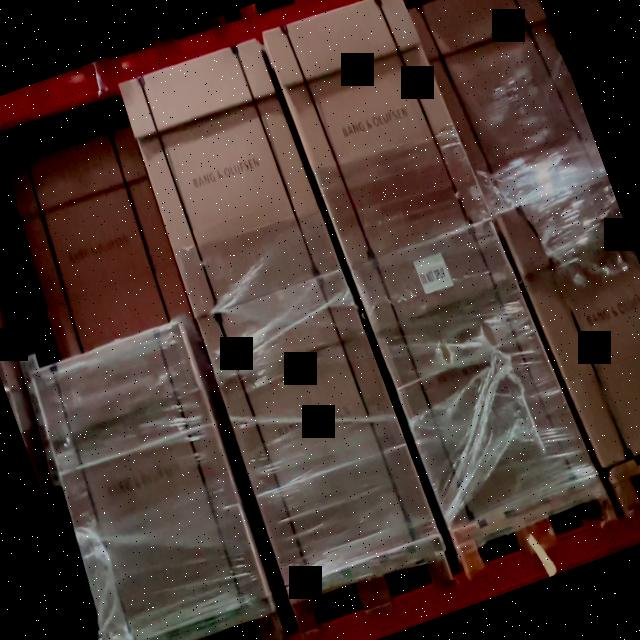box: (30, 327, 271, 640), (196, 271, 435, 584), (352, 218, 586, 531), (122, 36, 338, 311), (265, 0, 481, 263)
